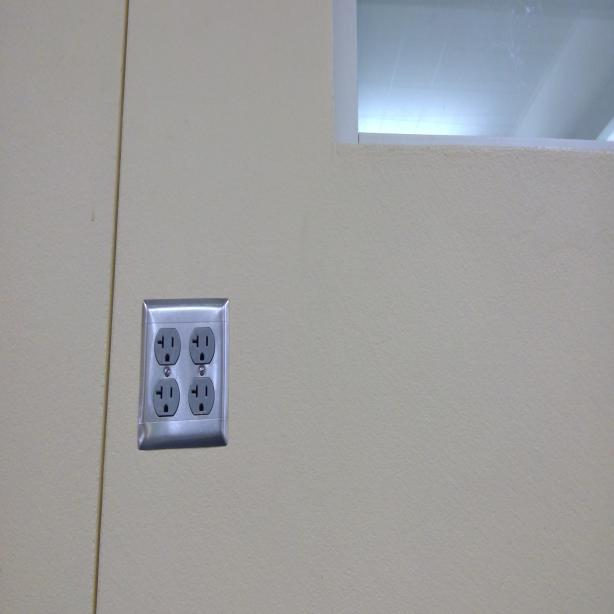typeb: (155, 326, 183, 366), (186, 377, 212, 415), (187, 328, 214, 364), (154, 379, 179, 416)
